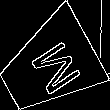M_SW: (18, 33, 79, 99)
